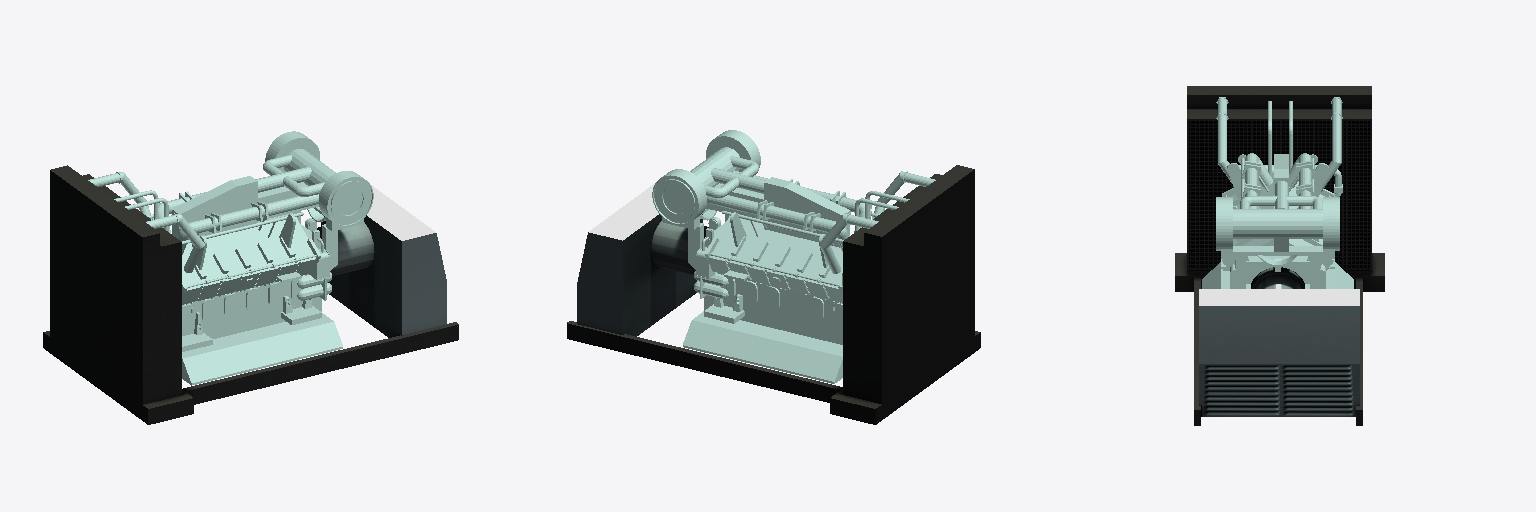
The picture shows the model from 3 angles: view 1: azimuth 30°, elevation 25°; view 2: azimuth 150°, elevation 25°; view 3: azimuth 270°, elevation 25°; orthographic projection.
Visible parts, largest first — view 1: ����002, Box01, ����001; view 2: ����002, Box01, ����001; view 3: Box01, ����001, ����002.
Part boxes in pixels (x1,y1,x2,y2): ����002: (88,131,373,385); Box01: (43,165,458,424); ����001: (317,184,446,337); ����002: (652,130,935,383); Box01: (567,165,980,424); ����001: (577,184,708,336); Box01: (1175,86,1384,425); ����001: (1199,267,1359,416); ����002: (1202,97,1353,288).
Size of the model in its own units: 426 by 233 by 242.
3 materials, 2 textured.